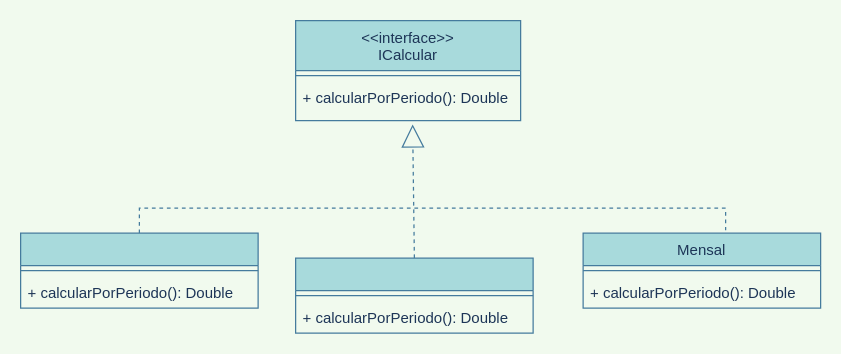
Image size: 841x354. Some labels were removed from this diagram. The box of each missing label's shape, as (x1, y1, x2, y2) in pixels:
Diaria: (19, 232, 258, 308)
Semanal: (294, 257, 533, 333)
